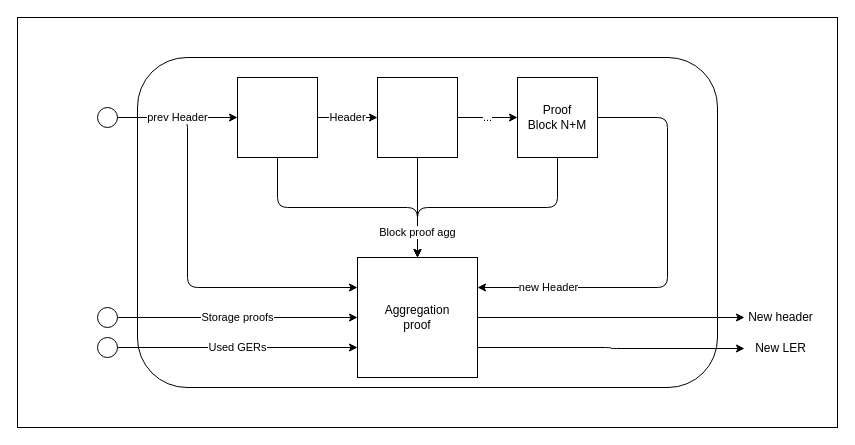
The diagram is 855 pixels wide and 445 high, and some of its shapes have lost their labels. The box of each missing label's shape, as (x1, y1, x2, y2) in pixels:
Proof Block N: (236, 76, 318, 158)
Proof Block N+1: (376, 76, 458, 158)
